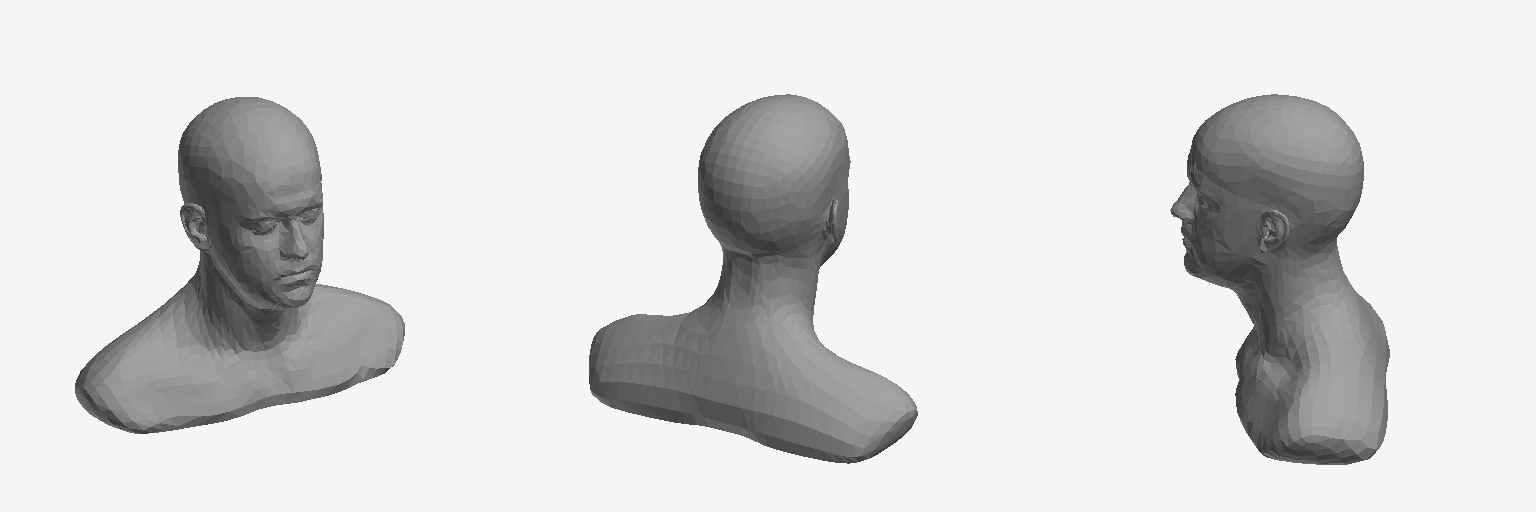
Rendered from head.obj.
The picture shows the model from 3 angles: view 1: azimuth 30°, elevation 25°; view 2: azimuth 150°, elevation 25°; view 3: azimuth 270°, elevation 25°; orthographic projection.
Parts seen in each view (by area): view 1: Infinite; view 2: Infinite; view 3: Infinite.
Part boxes in pixels (x1,y1,x2,y2): Infinite: (75, 97, 404, 433); Infinite: (589, 94, 917, 463); Infinite: (1170, 94, 1389, 464).
Bounding box in the file's own units: 45.35 × 42.12 × 27.44.